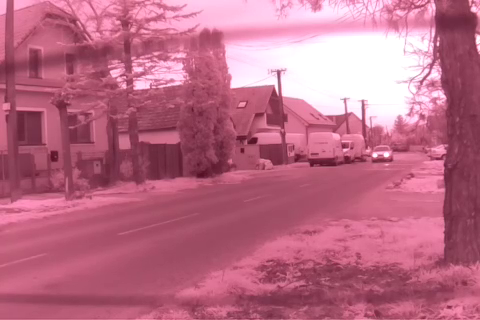car: (370, 144, 393, 162)
